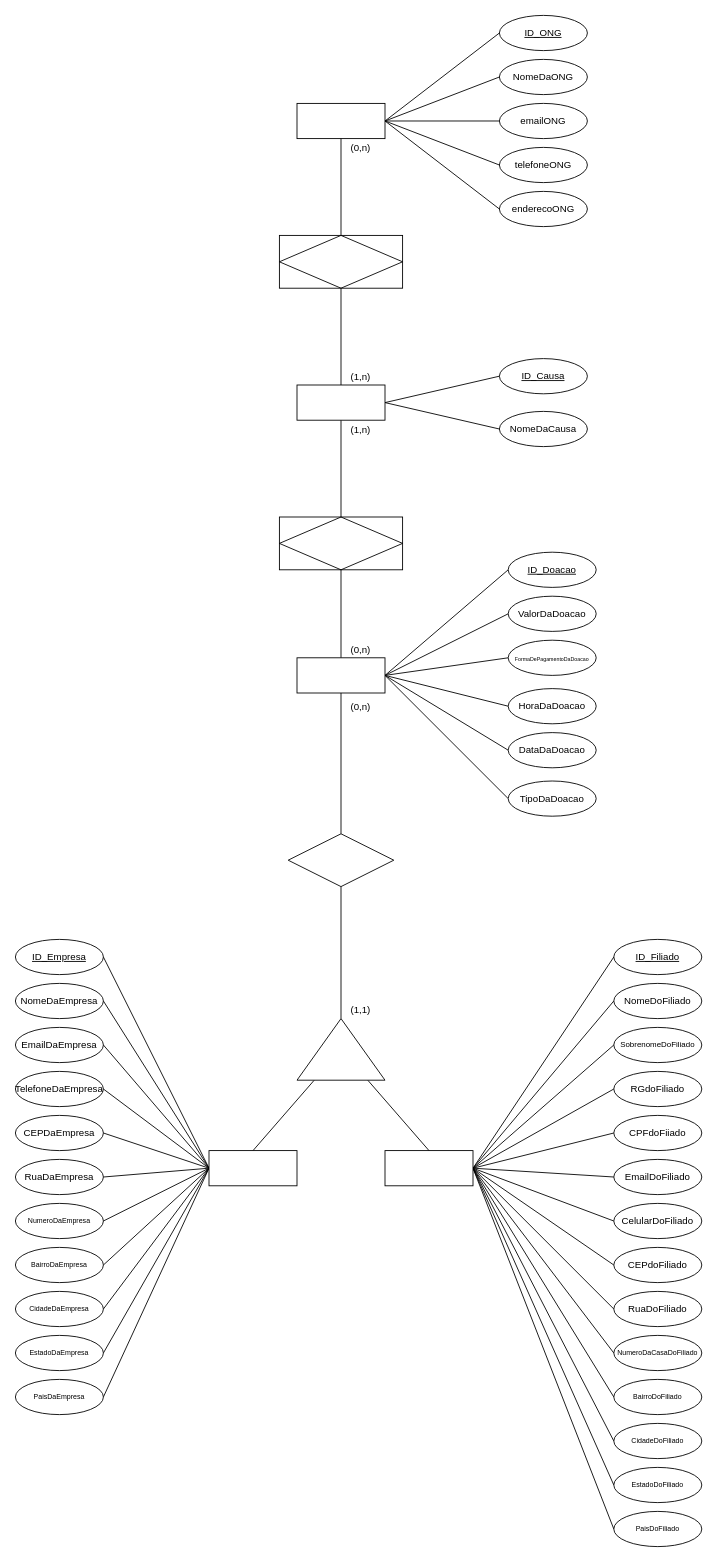
Some shapes in this 717 by 1562 pixel diagram are drawn without their labels. The centre of each missing label's shape, as x and y in pixels:
Causa: point 340,402
Doação: point 340,675
Filiado PF: point 428,1168
Filiado PJ: point 252,1168
ONG: point 340,121
